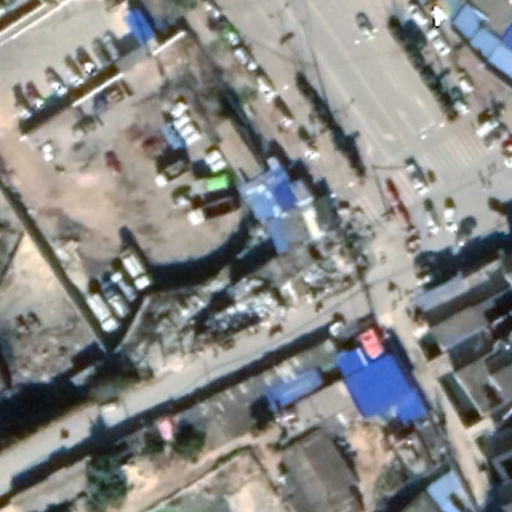msw: (201, 272, 282, 335)
